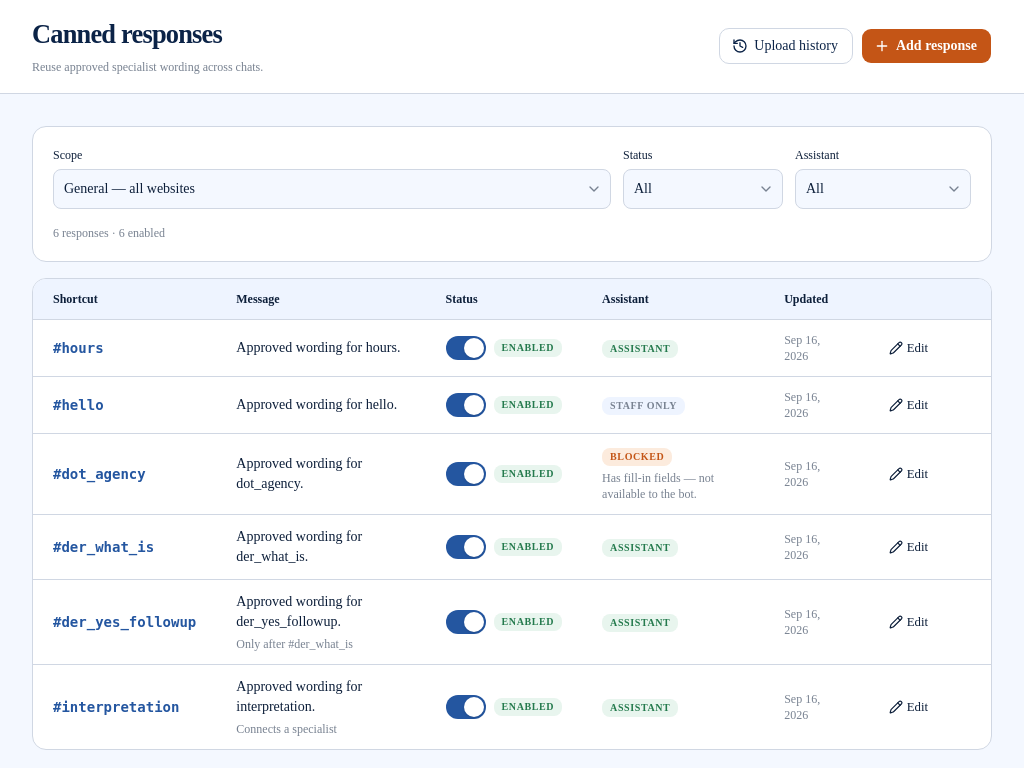
Test: canned responses: editor fields › saves the script a reply follows and the hand-off switch
The width and height of the screenshot is (1024, 768).
Click the 5th button "Edit" at (908, 622), box [878, 608, 939, 636]
(page scrolled)
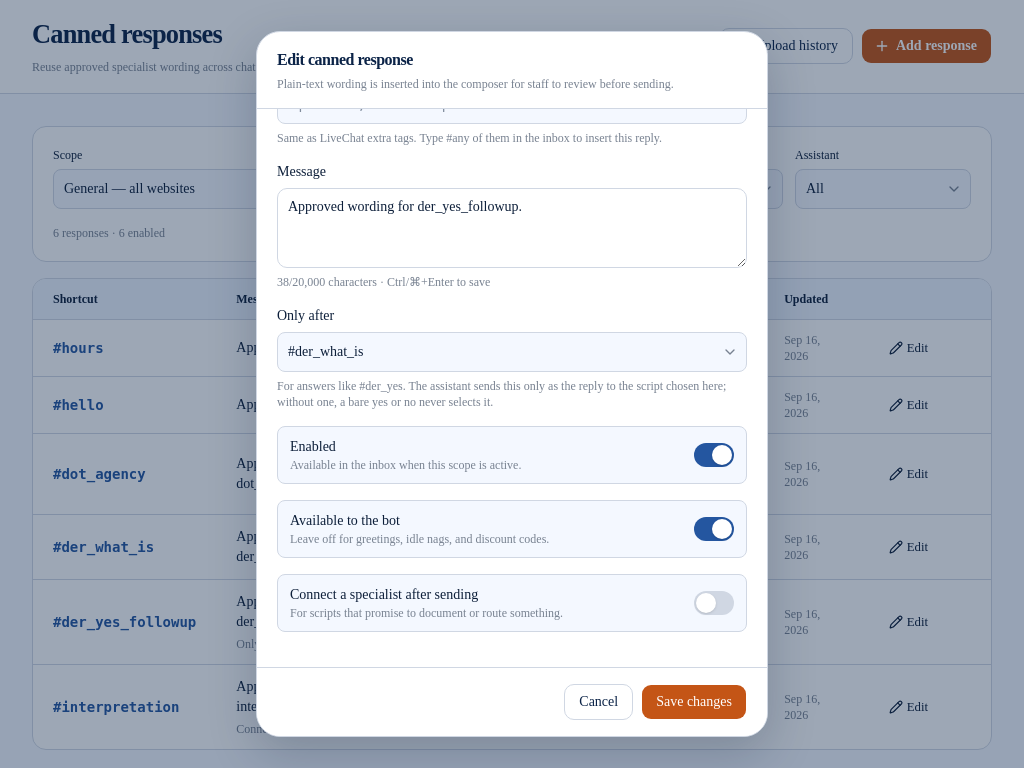
Click the switch named "Connect a specialist after sending" at (714, 603), box [694, 591, 734, 615]
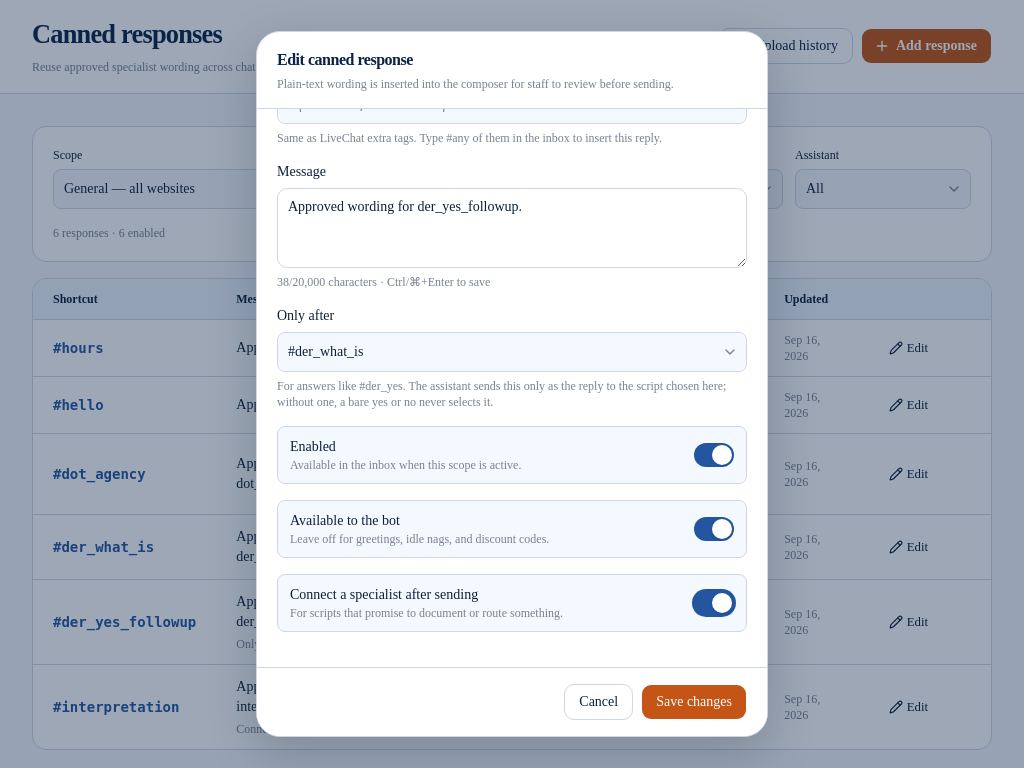
Click the button "Save changes" at (694, 702), box [641, 684, 747, 720]
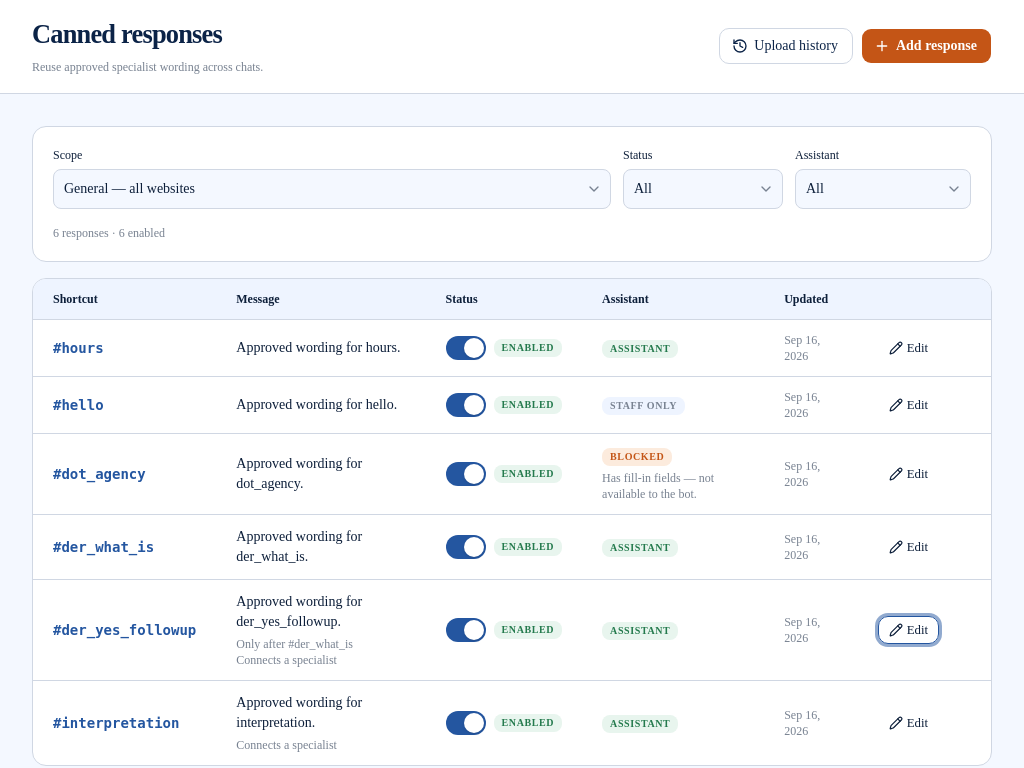
Check: the dialog is gone
